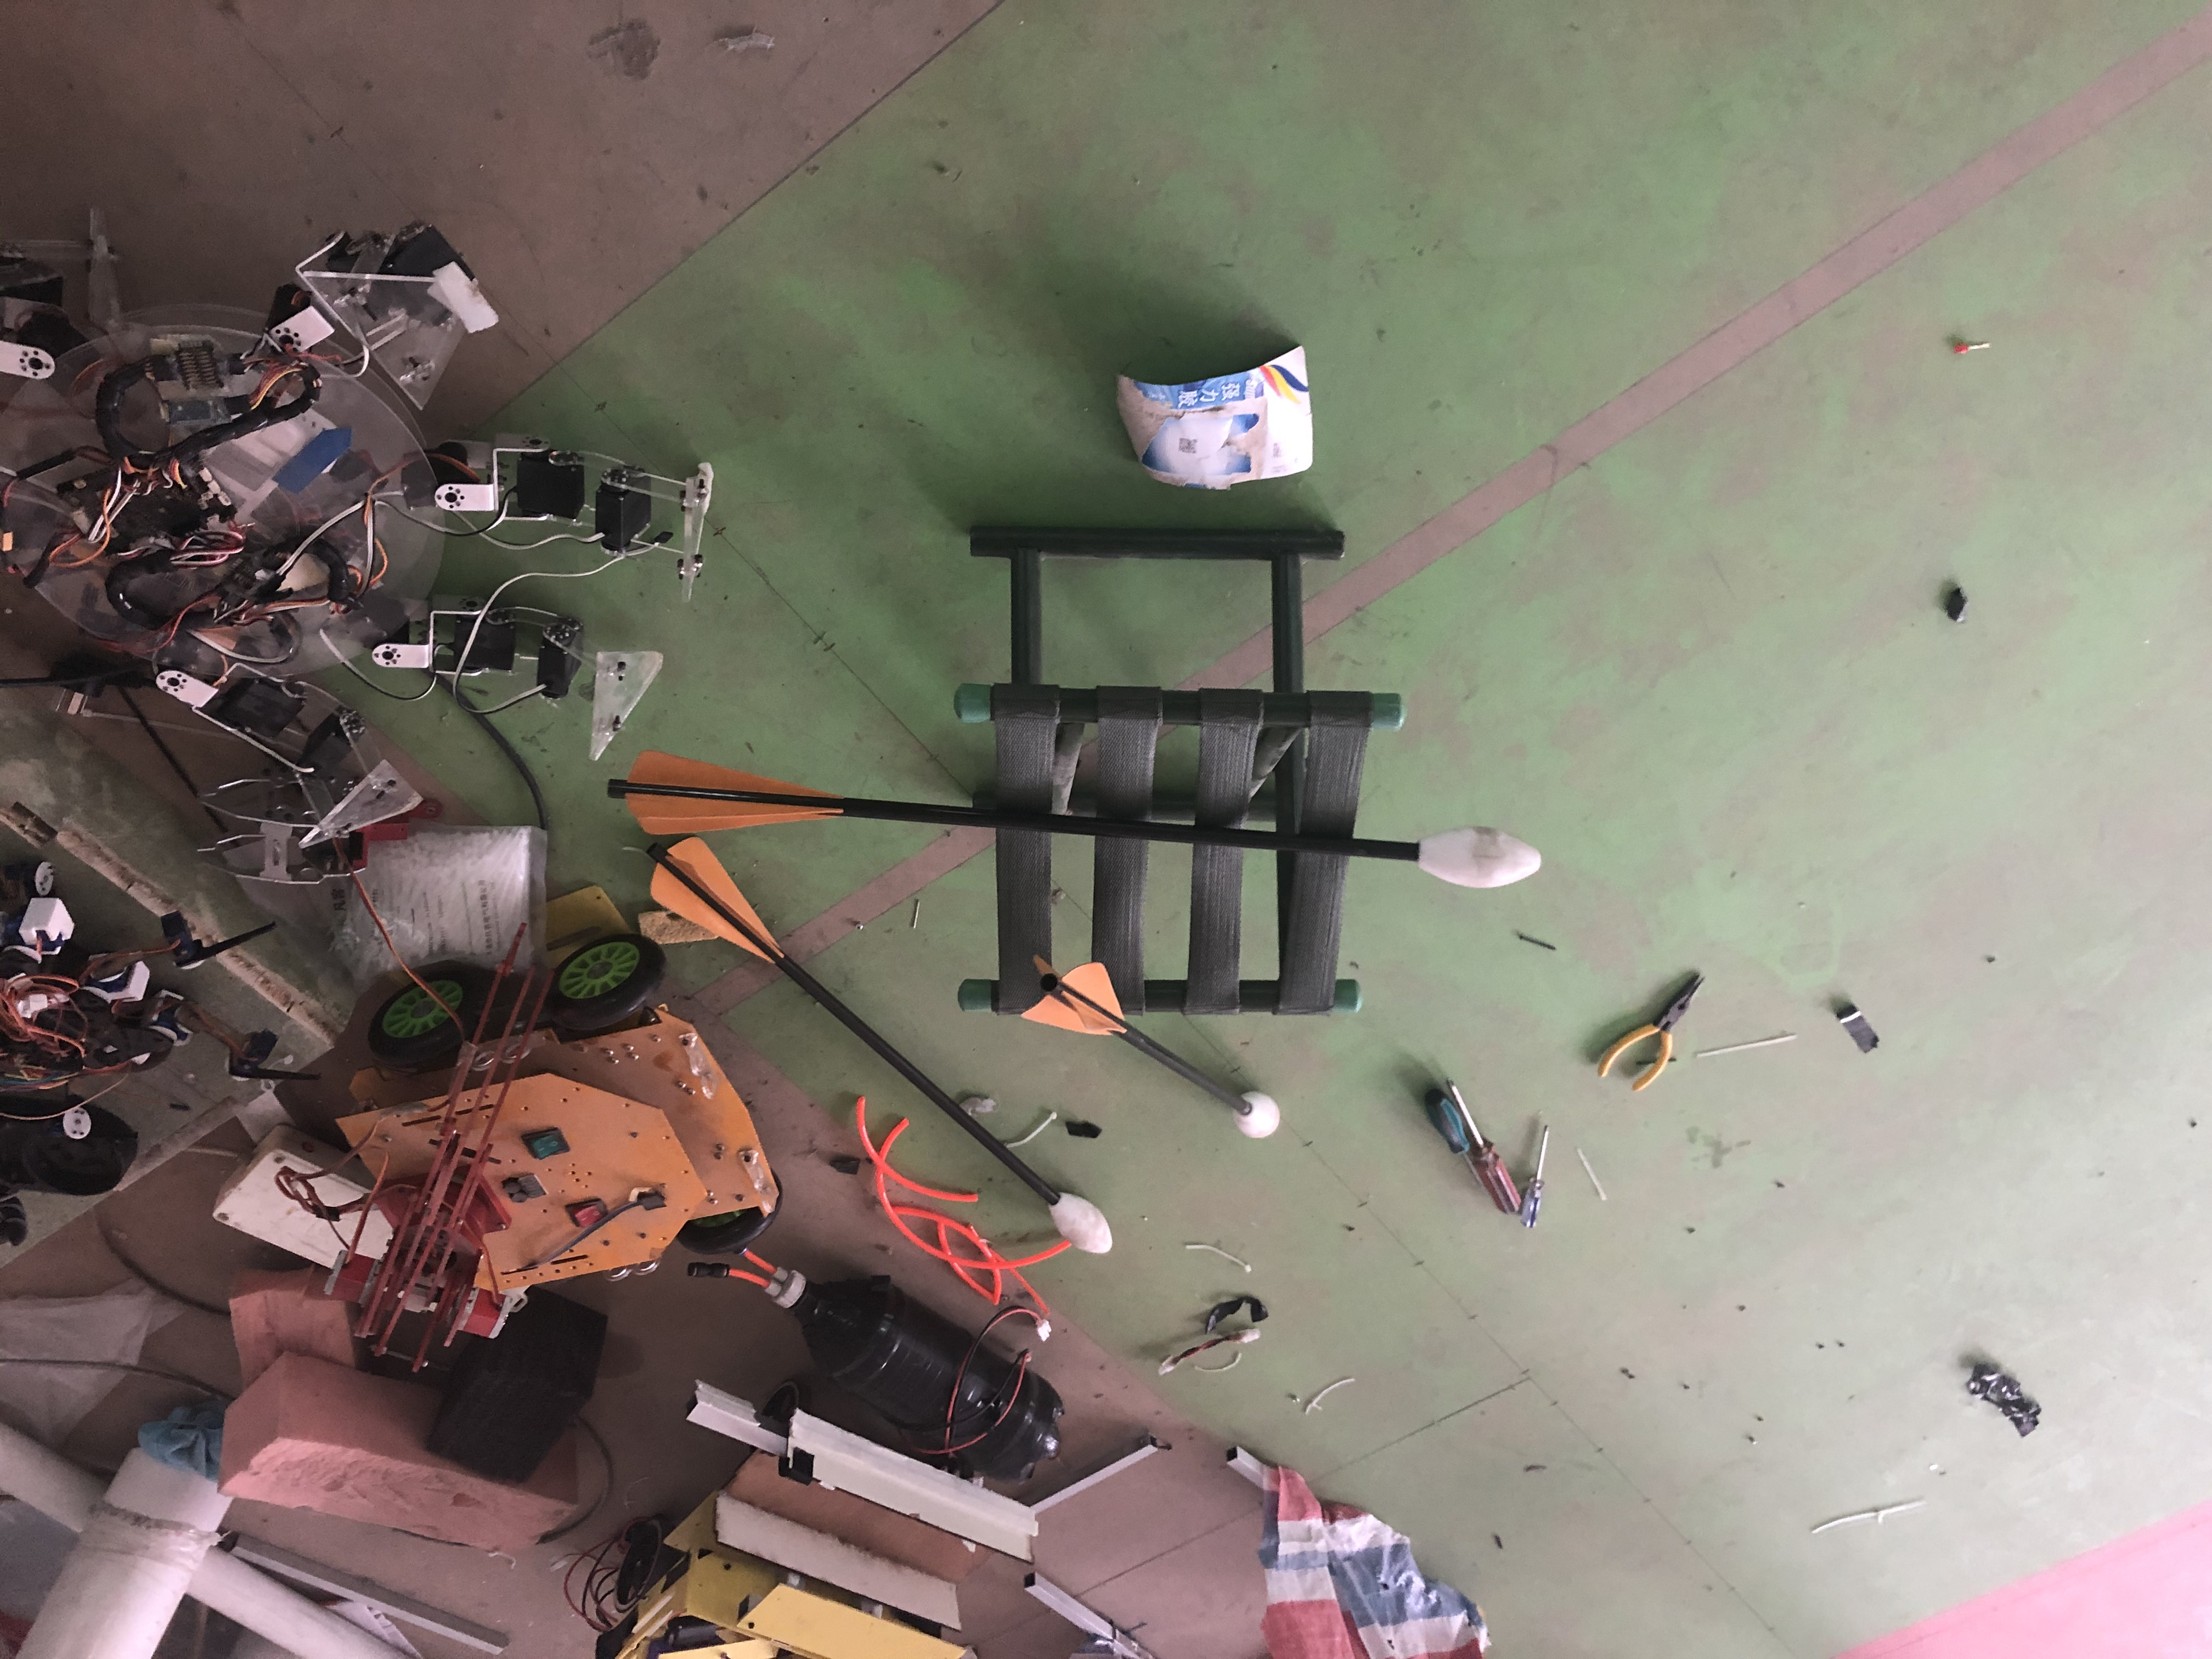arrow: (636, 838, 1118, 1253), (606, 749, 1545, 892), (1022, 945, 1278, 1136)
arrowFront: (1409, 826, 1541, 889), (1042, 1187, 1118, 1255), (1228, 1089, 1280, 1134)
